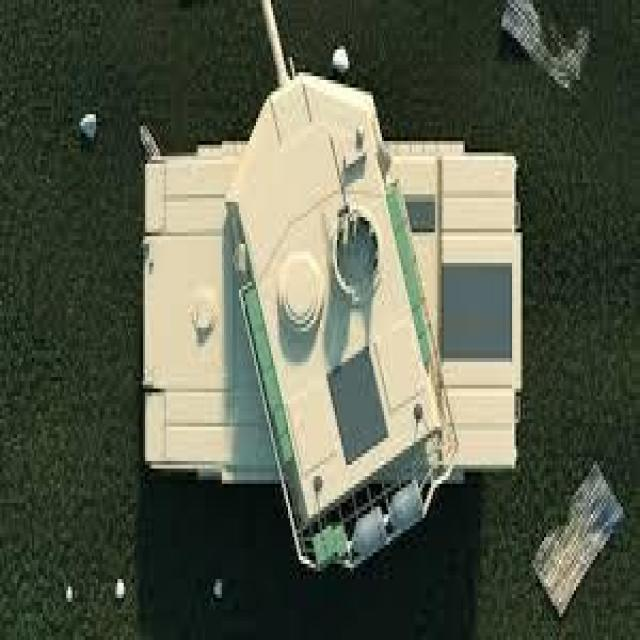Tanks: (108, 32, 588, 578)
